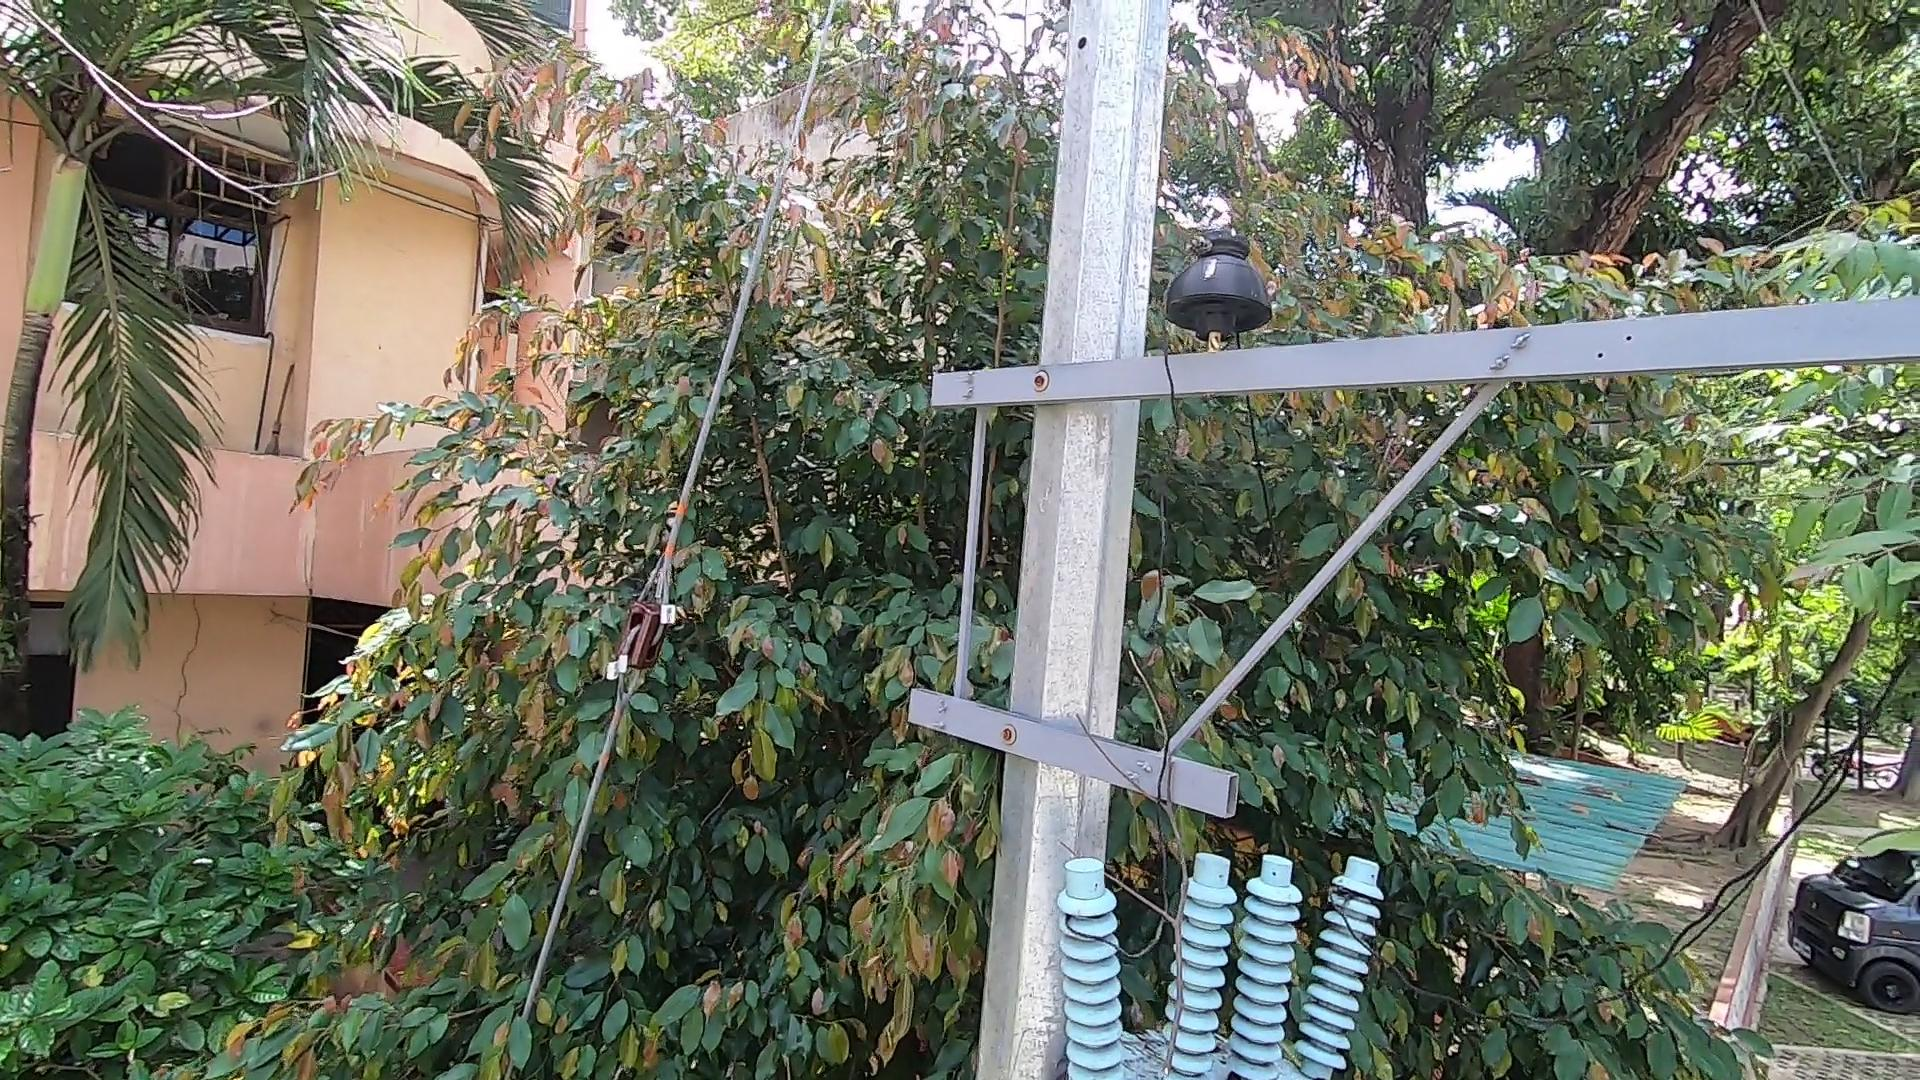tree branch: (1069, 618, 1234, 1080)
